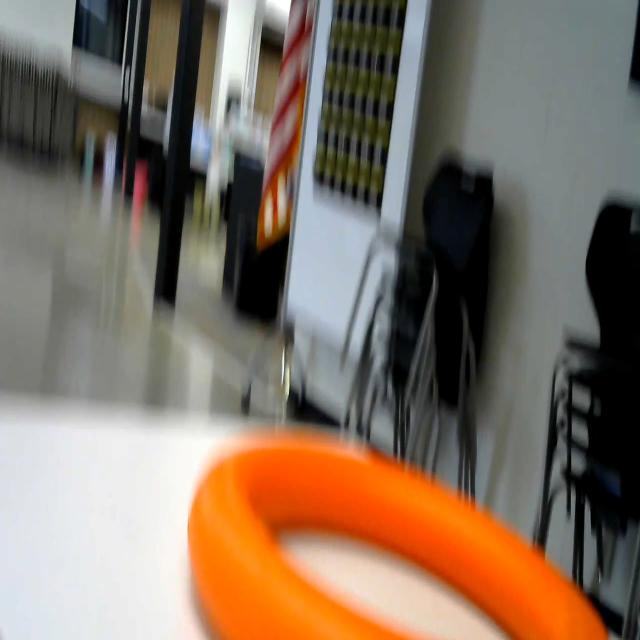note: (154, 423, 640, 640)
